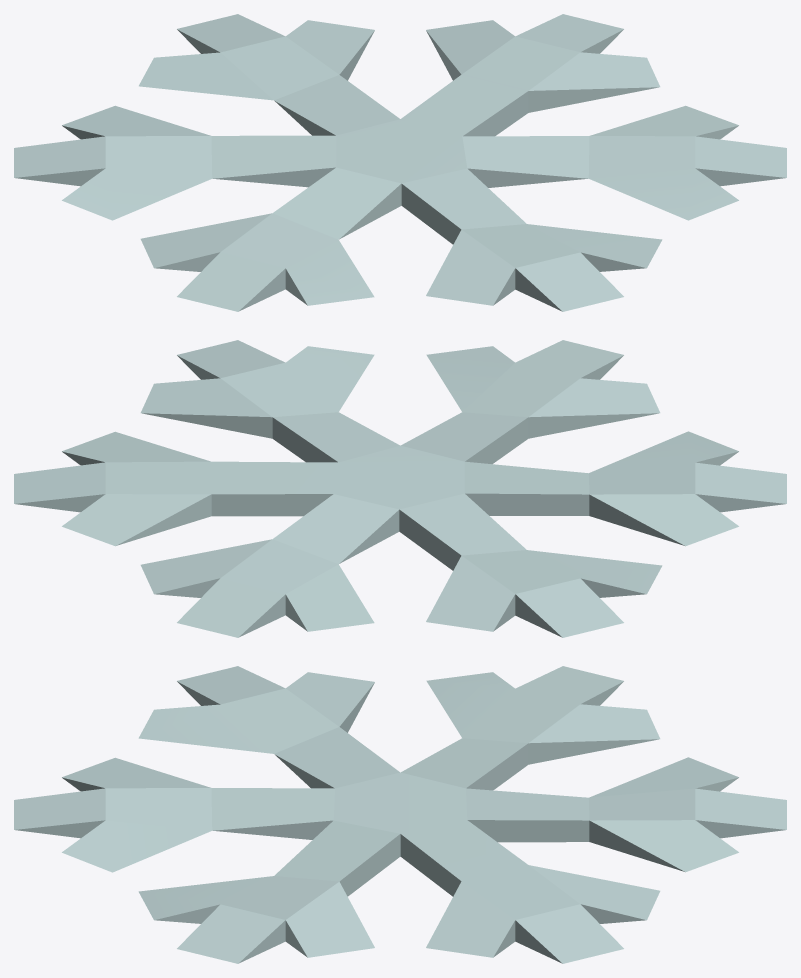
The model's file is nature_snowflake.fbx.
3 views of the same model, one above another, from view 1: azimuth 30°, elevation 25°; view 2: azimuth 150°, elevation 25°; view 3: azimuth 270°, elevation 25° (orthographic).
Visible parts, largest first — view 1: nature_snowflake; view 2: nature_snowflake; view 3: nature_snowflake.
Part boxes in pixels (x1=…): nature_snowflake: x1=14, y1=14, x2=786, y2=311; nature_snowflake: x1=14, y1=340, x2=786, y2=637; nature_snowflake: x1=14, y1=666, x2=786, y2=963.
Size of the model in its own units: 182 by 6.52 by 200.
